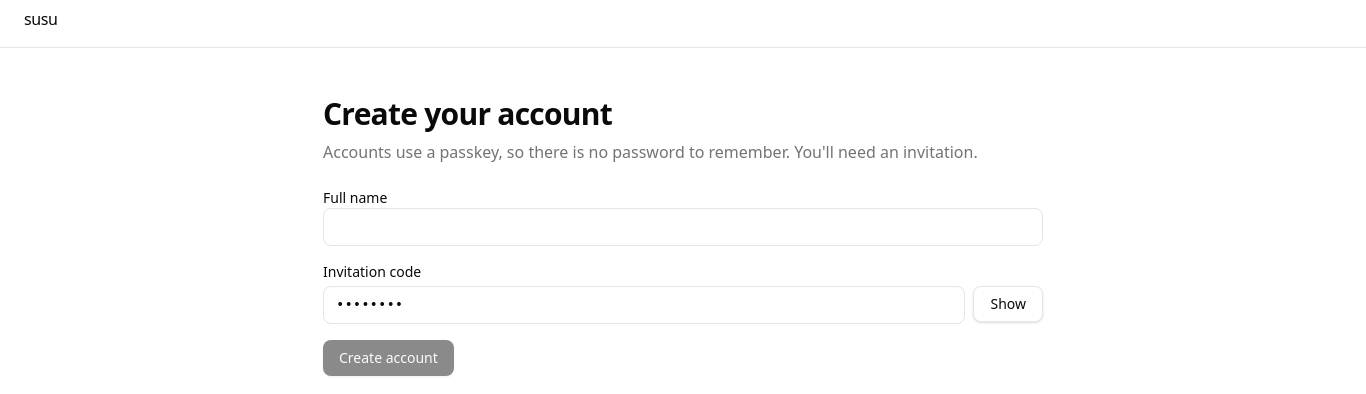
Test: registers: begin, passkey, finish, then points the user to log in
Type "Ada Lovelace" into the field labelled "Full name".
click(683, 227); type("Ada Lovelace")  # box [323,208,1043,246]
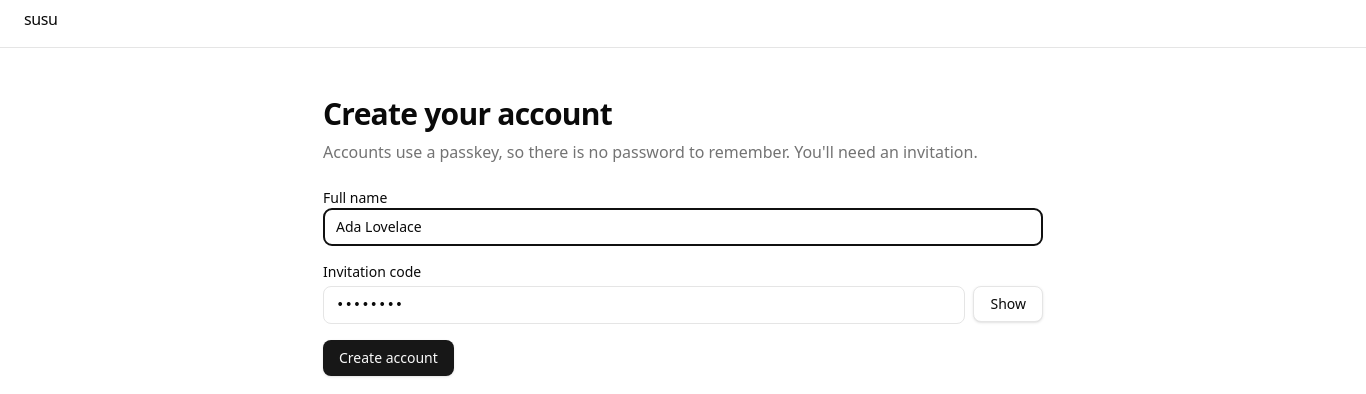
Click the button "Create account".
click(388, 358)  # box [323,340,454,376]
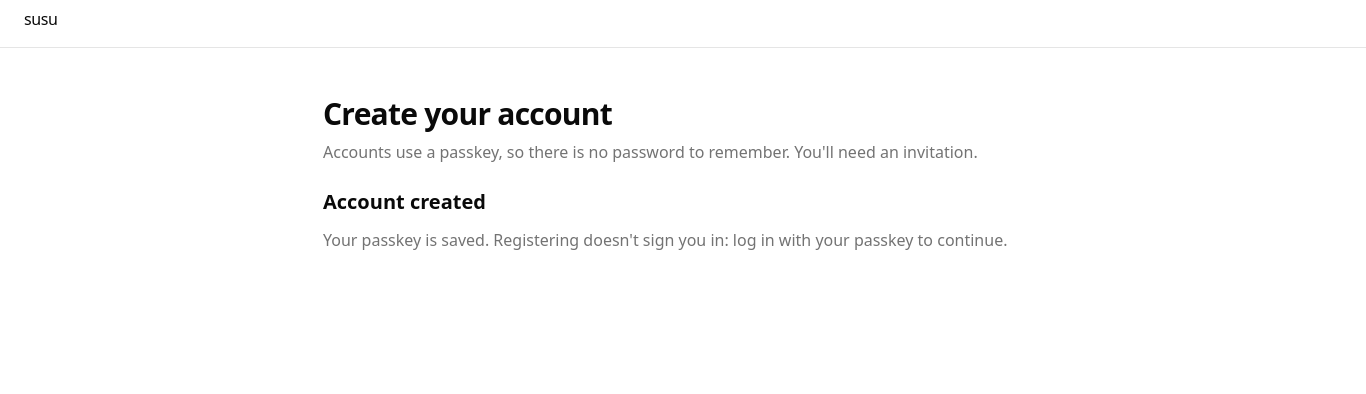
Now the heading "Account created" is shown, box [323,188,486,215]
Now the text "log in with your passkey" is shown, box [323,229,1008,251]
